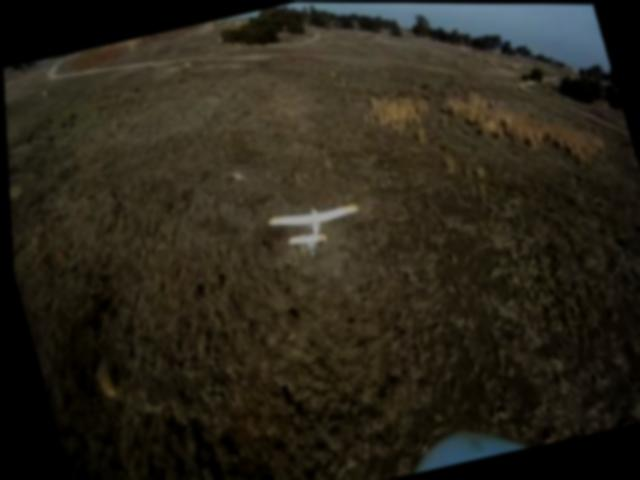uav: (254, 183, 375, 271)
